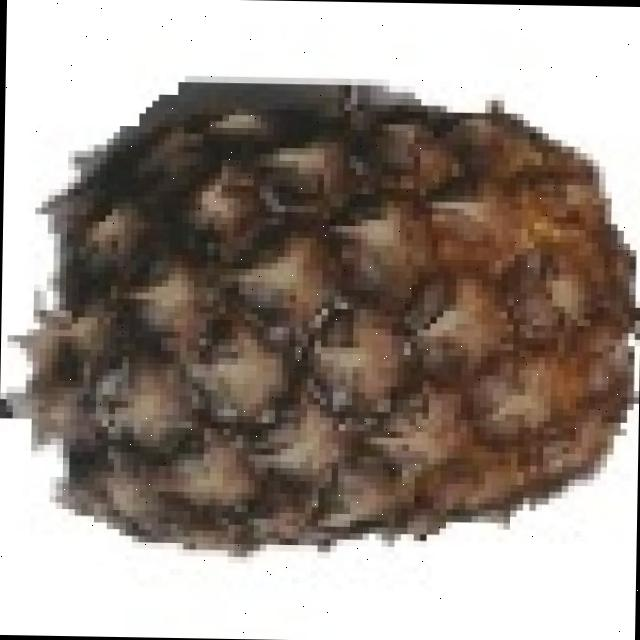pineapple: (43, 103, 639, 562)
